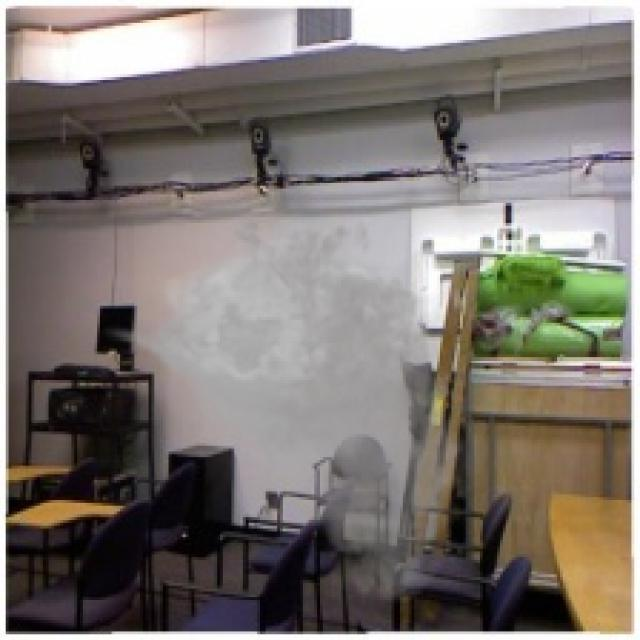Smoke: (100, 192, 480, 608)
